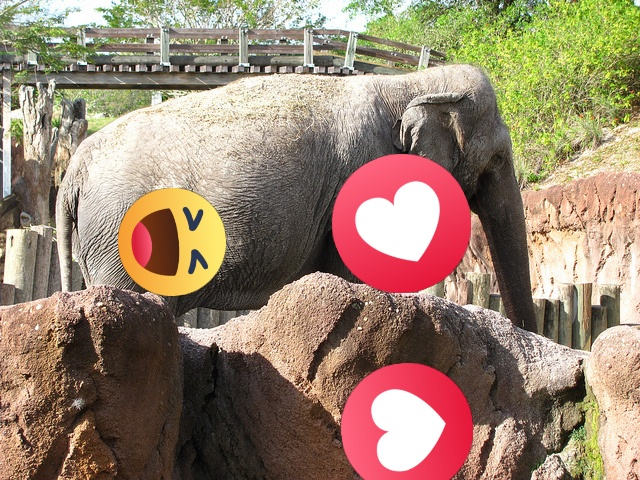haha: (118, 188, 226, 296)
love: (332, 154, 471, 293), (341, 363, 473, 480)
